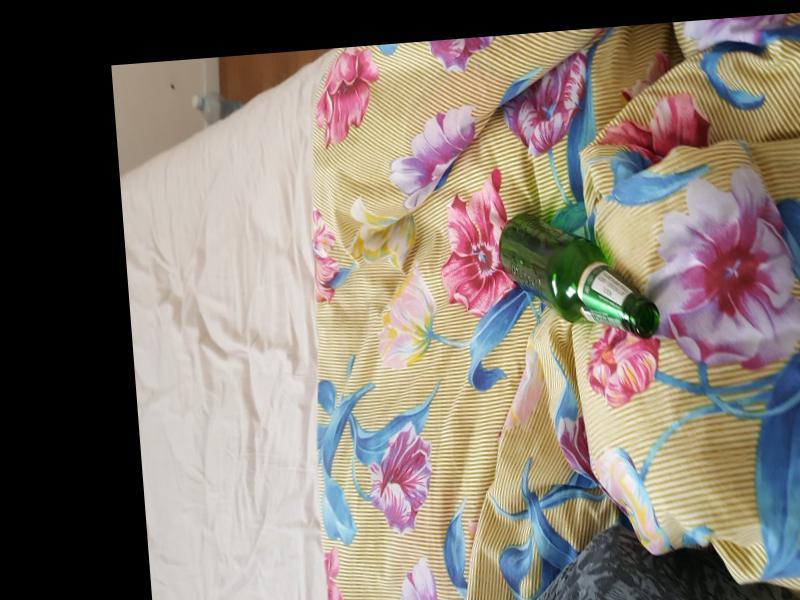Beer: (497, 203, 662, 346)
